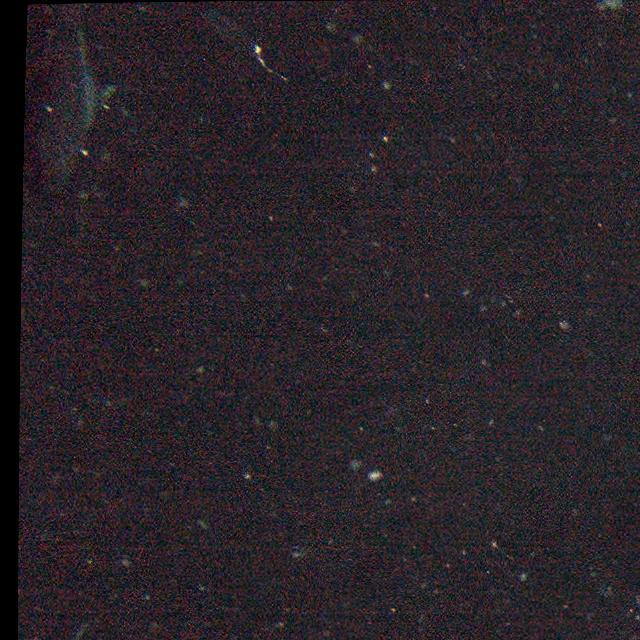roundfish: (33, 8, 110, 208)
